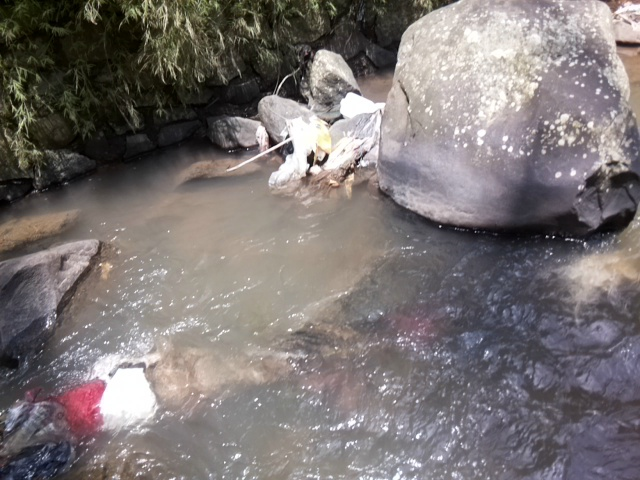Sampah_Plastik: (1, 353, 153, 480), (279, 116, 370, 195)
